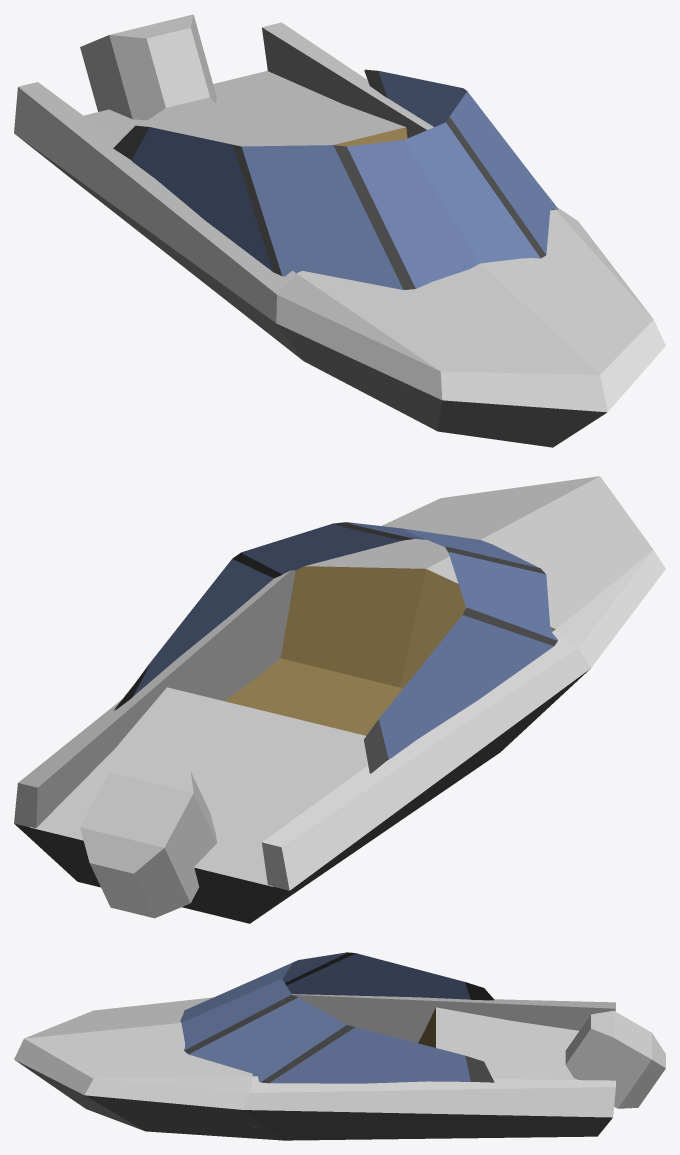
File: transport_water_007.glb
3 renders of one model, top to bottom at view 1: azimuth 30°, elevation 25°; view 2: azimuth 150°, elevation 25°; view 3: azimuth 270°, elevation 25°, orthographic. The views are drawn at different scales.
Parts seen in each view (by area): view 1: transport_water_007; view 2: transport_water_007; view 3: transport_water_007.
Boxes of the visible parts, x1=… form: transport_water_007: x1=14, y1=14, x2=665, y2=447; transport_water_007: x1=14, y1=476, x2=665, y2=923; transport_water_007: x1=14, y1=952, x2=665, y2=1140.
Bounding box in the file's own units: 2.06 × 1.24 × 5.61.
Materials: 1 (1 with a texture image).
